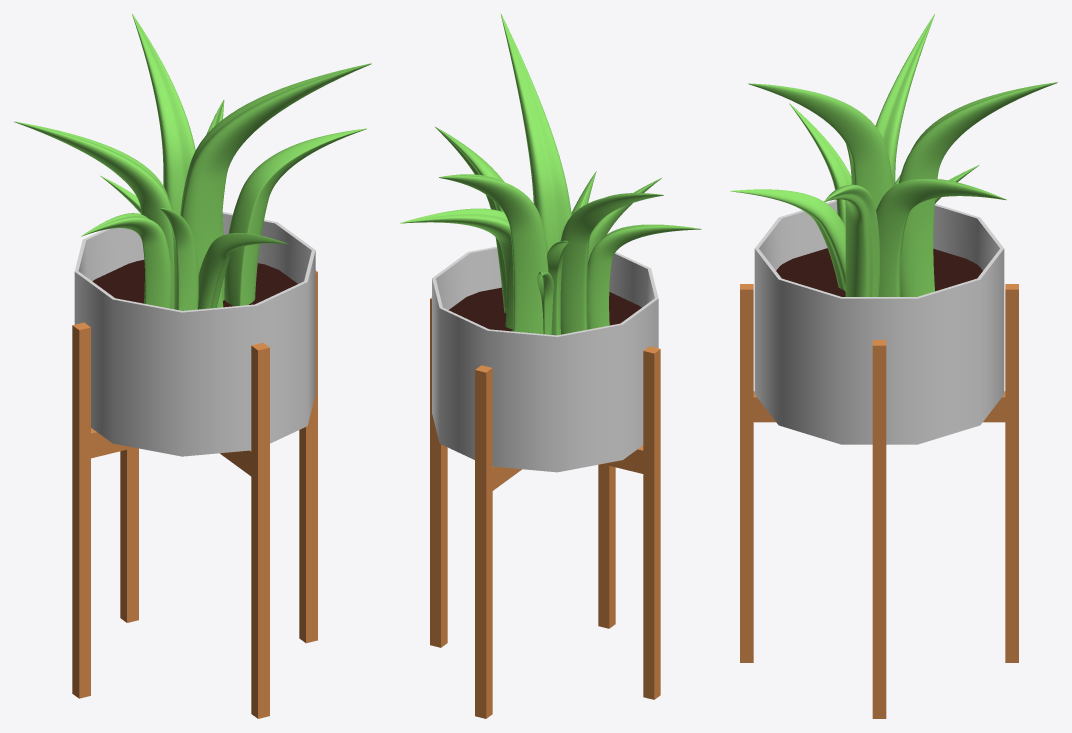
Rendered from Kap+Tahta+Alovera.fbx.
3 views of the same model, side by side, from view 1: azimuth 30°, elevation 25°; view 2: azimuth 150°, elevation 25°; view 3: azimuth 270°, elevation 25° (orthographic). The views are drawn at different scales.
Parts seen in each view (by area): view 1: YogurtKabi, SopaParçası.001, NurbsPath.002, NurbsPath.007, NurbsPath.006, NurbsPath, NurbsPath.008, Circle, NurbsPath.005, NurbsPath.004; view 2: YogurtKabi, SopaParçası.001, NurbsPath.006, NurbsPath.002, NurbsPath, NurbsPath.008, NurbsPath.003, Circle, NurbsPath.007, NurbsPath.001, NurbsPath.009, NurbsPath.005; view 3: YogurtKabi, SopaParçası.001, NurbsPath.006, NurbsPath.002, NurbsPath.003, NurbsPath.007, Circle, NurbsPath.004, NurbsPath, NurbsPath.005.
Part boxes in pixels (box(x1,y1,x2,y2)): YogurtKabi: box(74, 212, 315, 456); SopaParçası.001: box(72, 270, 317, 718); NurbsPath.002: box(180, 63, 371, 307); NurbsPath.007: box(224, 128, 366, 306); NurbsPath.006: box(132, 14, 195, 214); NurbsPath: box(14, 121, 174, 309); NurbsPath.008: box(81, 213, 171, 308); Circle: box(92, 260, 297, 307); NurbsPath.005: box(160, 208, 198, 310); NurbsPath.004: box(198, 233, 287, 309); YogurtKabi: box(432, 246, 658, 472); SopaParçası.001: box(430, 297, 660, 718); NurbsPath.006: box(439, 174, 548, 334); NurbsPath.002: box(500, 14, 571, 251); NurbsPath: box(560, 193, 663, 334); NurbsPath.008: box(587, 224, 701, 329); NurbsPath.003: box(400, 208, 513, 329); Circle: box(448, 287, 641, 331); NurbsPath.007: box(435, 126, 506, 313); NurbsPath.001: box(547, 240, 568, 335); NurbsPath.009: box(537, 271, 553, 334); NurbsPath.005: box(588, 178, 661, 261); YogurtKabi: box(754, 200, 1004, 444); SopaParçası.001: box(740, 284, 1018, 718); NurbsPath.006: box(899, 82, 1057, 296); NurbsPath.002: box(748, 83, 893, 209); NurbsPath.003: box(876, 178, 1006, 296); NurbsPath.007: box(824, 184, 879, 296); Circle: box(776, 248, 982, 296); NurbsPath.004: box(730, 189, 845, 291); NurbsPath: box(875, 14, 934, 185); NurbsPath.005: box(789, 103, 851, 225).
Size of the model in its own units: 526 by 1051 by 494.
